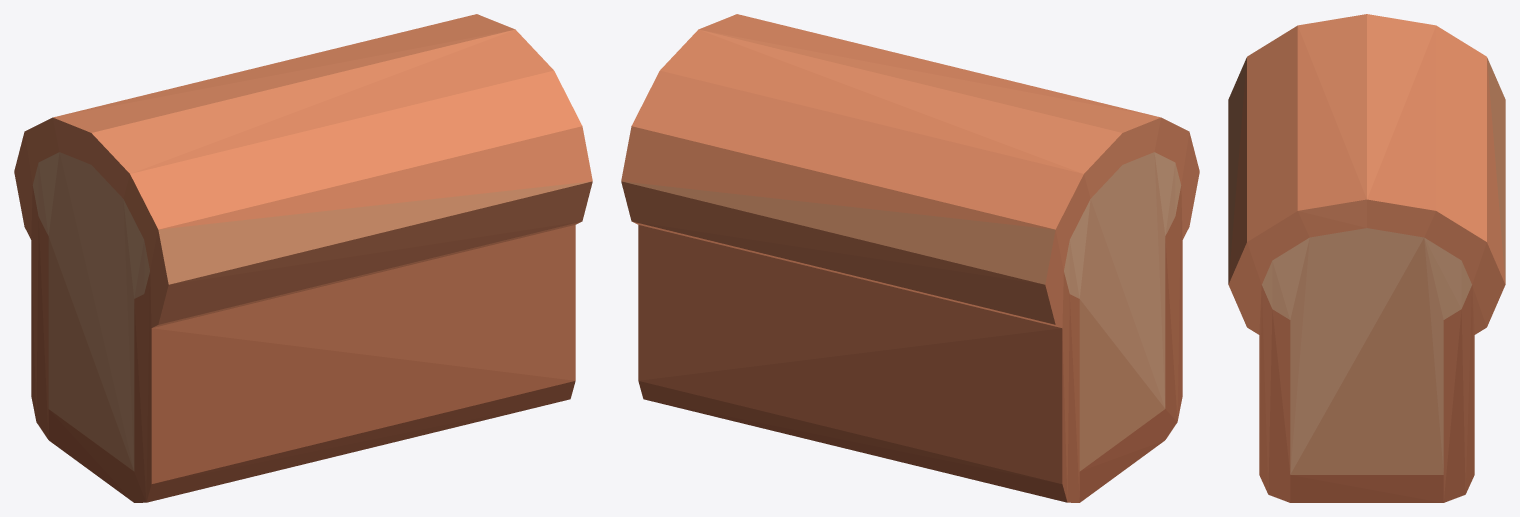
The model's file is g-bread.glb.
3 renders of one model, left to right at view 1: azimuth 30°, elevation 25°; view 2: azimuth 150°, elevation 25°; view 3: azimuth 270°, elevation 25°, orthographic. The views are drawn at different scales.
Parts seen in each view (by area): view 1: g_bread; view 2: g_bread; view 3: g_bread.
Boxes of the visible parts, x1,y1,x2,y2 form: g_bread: [14, 14, 592, 502]; g_bread: [621, 14, 1199, 502]; g_bread: [1228, 14, 1505, 502].
Size of the model in its own units: 0.24 by 0.1831 by 0.1515.
